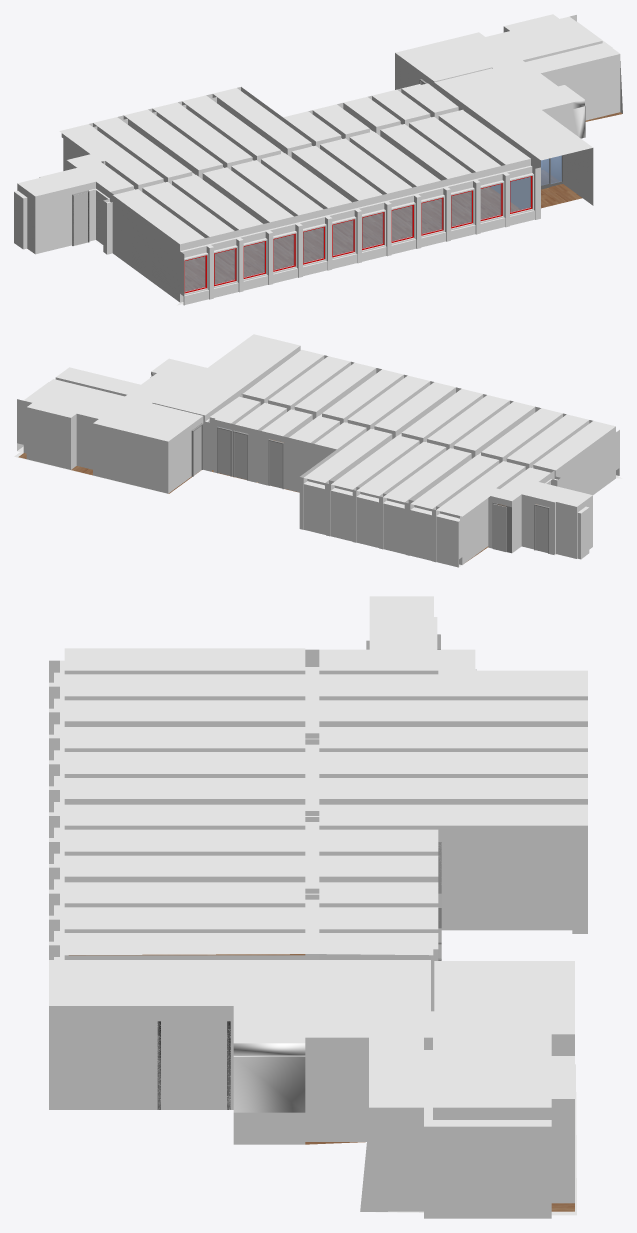
File: stadslab model with doors.fbx
3 views of the same model, one above another, from view 1: azimuth 30°, elevation 25°; view 2: azimuth 150°, elevation 25°; view 3: azimuth 270°, elevation 25° (orthographic). The views are drawn at different scales.
Parts seen in each view (by area): view 1: Mesh93; view 2: Mesh93; view 3: Mesh93.
Boxes of the visible parts, box(x1,y1,x2,y2) form: Mesh93: box(14, 14, 622, 305); Mesh93: box(14, 334, 621, 567); Mesh93: box(49, 596, 587, 1218).
Size of the model in its own units: 36.44 by 3.4 by 15.93.
